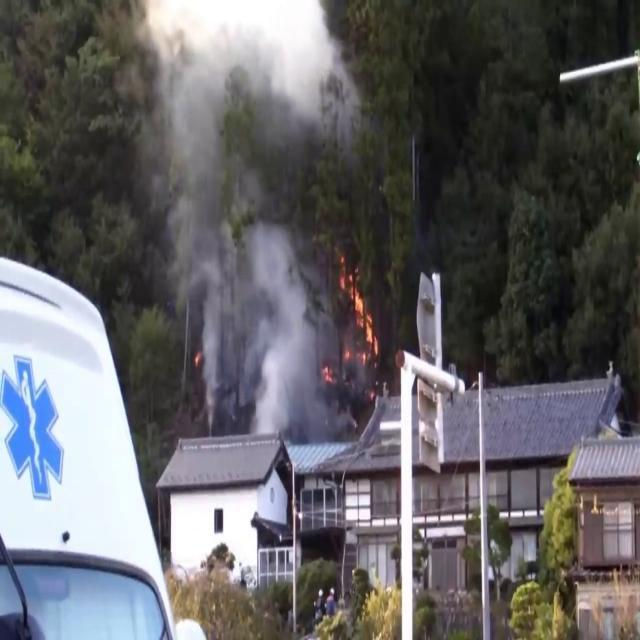Fire: (344, 268, 382, 376)
Smoke: (137, 0, 356, 448)
